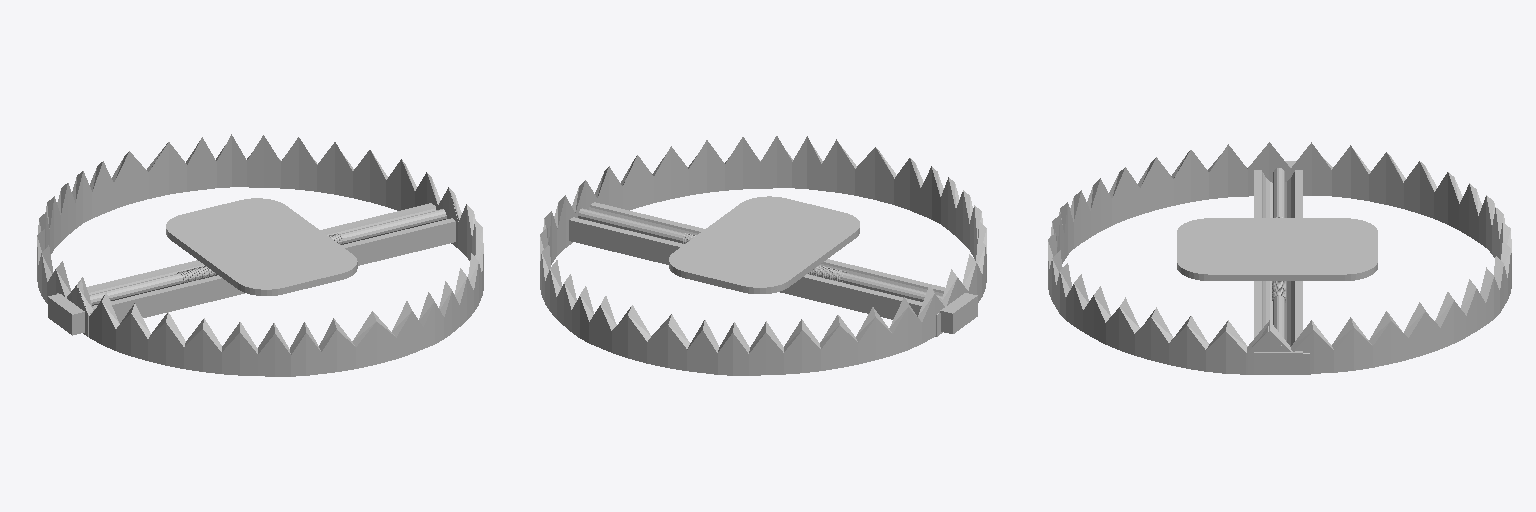
The model's file is trap.obj.
The picture shows the model from 3 angles: view 1: azimuth 30°, elevation 25°; view 2: azimuth 150°, elevation 25°; view 3: azimuth 270°, elevation 25°; orthographic projection.
Visible parts, largest first — view 1: polySurface5_メッシュ.002, polySurface4_メッシュ.003, polySurface3_メッシュ.007, polySurface7_メッシュ, polySurface6_メッシュ.001; view 2: polySurface4_メッシュ.003, polySurface5_メッシュ.002, polySurface3_メッシュ.007, polySurface7_メッシュ, polySurface6_メッシュ.001; view 3: polySurface4_メッシュ.003, polySurface5_メッシュ.002, polySurface3_メッシュ.007, polySurface7_メッシュ, polySurface6_メッシュ.001.
Part boxes in pixels (left/top/right/bottom): polySurface5_メッシュ.002: left=57, top=189, right=483, bottom=376; polySurface4_メッシュ.003: left=37, top=134, right=461, bottom=336; polySurface3_メッシュ.007: left=166, top=198, right=357, bottom=295; polySurface7_メッシュ: left=48, top=203, right=455, bottom=335; polySurface6_メッシュ.001: left=89, top=209, right=446, bottom=305; polySurface4_メッシュ.003: left=540, top=180, right=967, bottom=375; polySurface5_メッシュ.002: left=566, top=136, right=986, bottom=336; polySurface3_メッシュ.007: left=669, top=196, right=859, bottom=293; polySurface7_メッシュ: left=569, top=202, right=977, bottom=333; polySurface6_メッシュ.001: left=578, top=208, right=942, bottom=301; polySurface4_メッシュ.003: left=1247, top=142, right=1511, bottom=373; polySurface5_メッシュ.002: left=1048, top=143, right=1310, bottom=374; polySurface3_メッシュ.007: left=1177, top=218, right=1377, bottom=280; polySurface7_メッシュ: left=1254, top=161, right=1302, bottom=373; polySurface6_メッシュ.001: left=1273, top=168, right=1284, bottom=338.
Size of the model in its own units: 0.266 by 0.035 by 0.272.